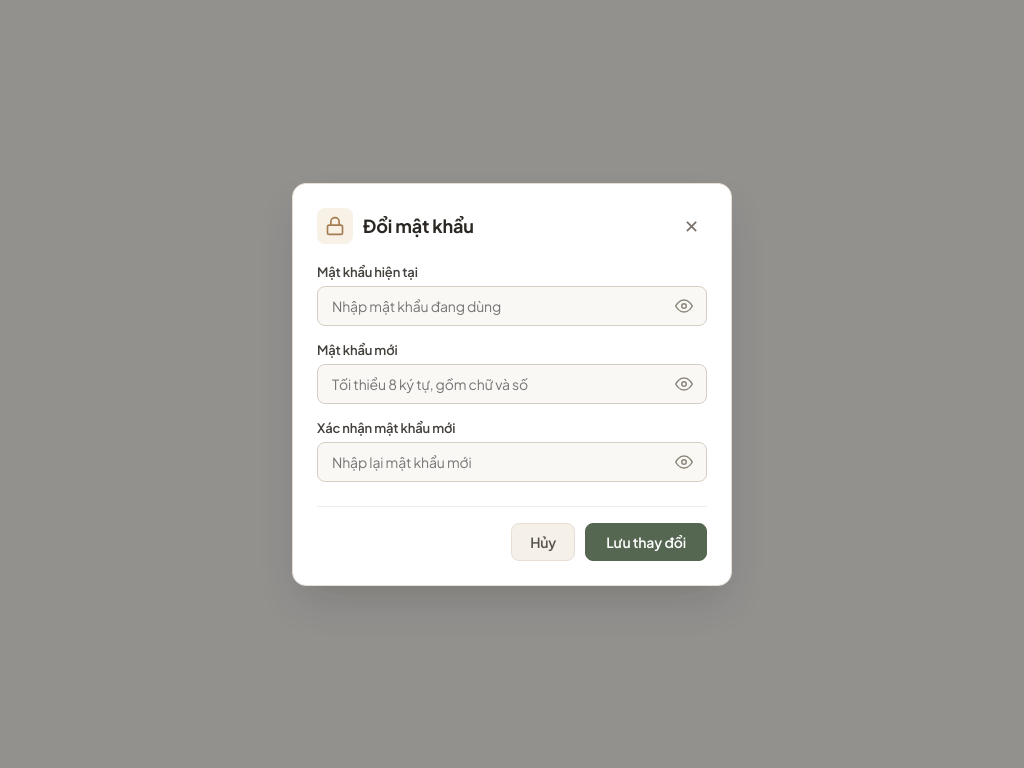
Test case: ChangePasswordModal › validates new password cannot be same as current password
The width and height of the screenshot is (1024, 768).
Type "SamePassword123" into the password field labelled "Mật khẩu hiện tại". click: (512, 306)
box: top-left (317, 286), bottom-right (707, 326)
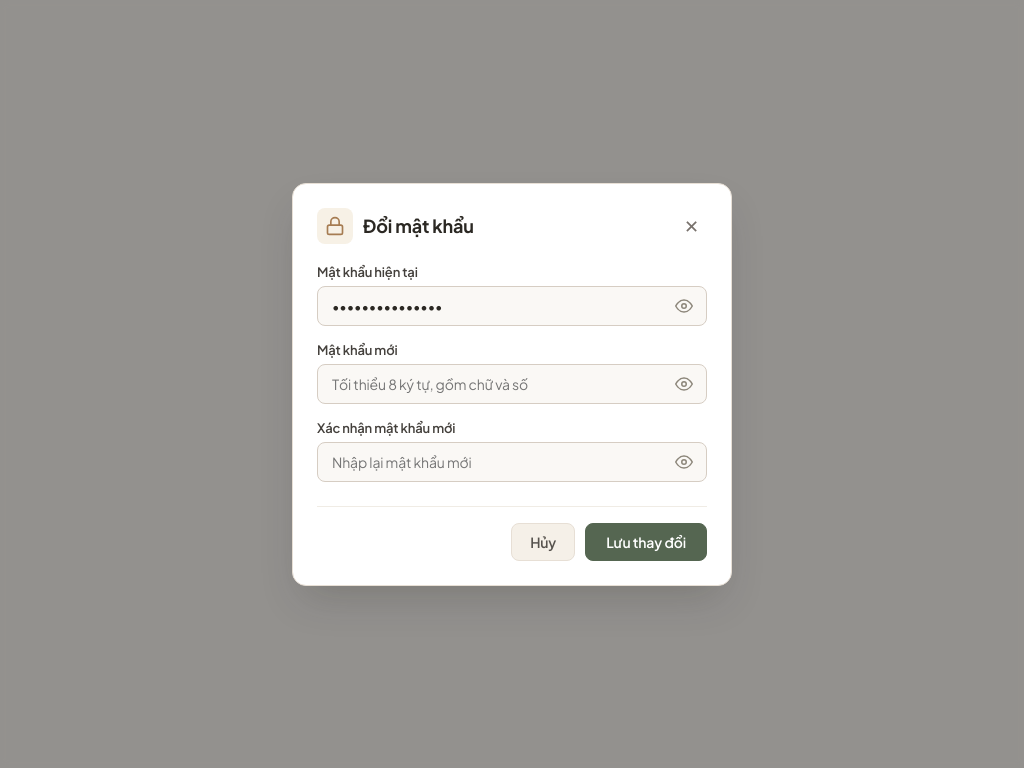
Type "SamePassword123" into the password field labelled "Mật khẩu mới". click: (512, 384)
box: top-left (317, 364), bottom-right (707, 404)
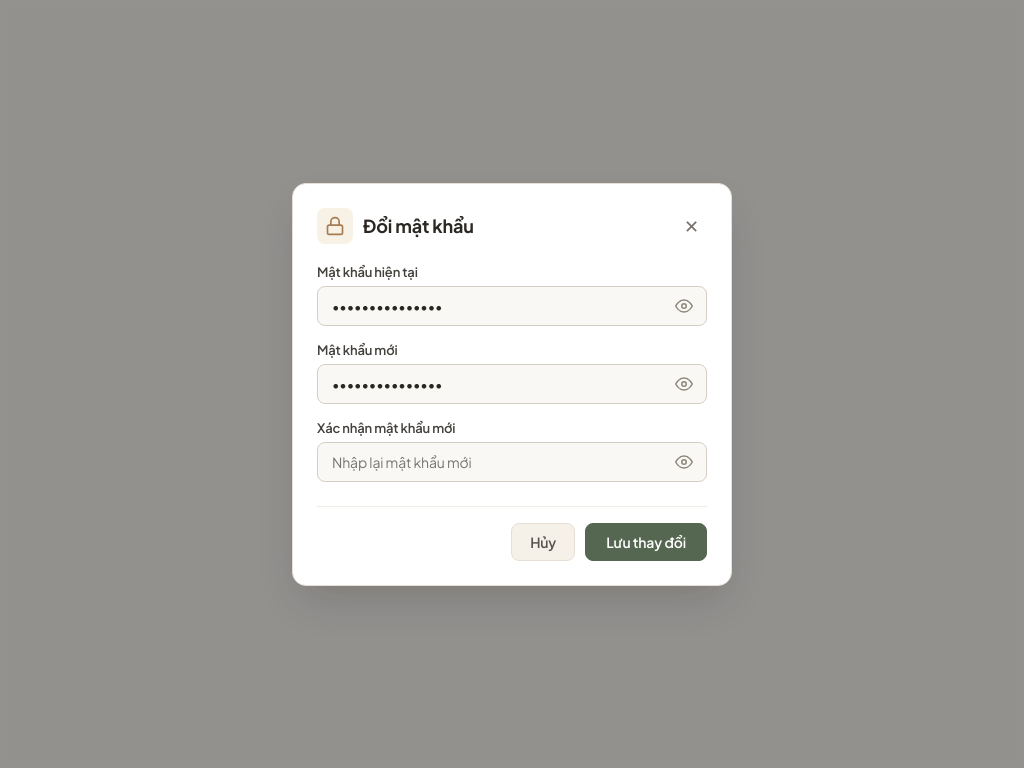
Click the button "Lưu thay đổi". click: (646, 542)
box: top-left (585, 522), bottom-right (707, 560)
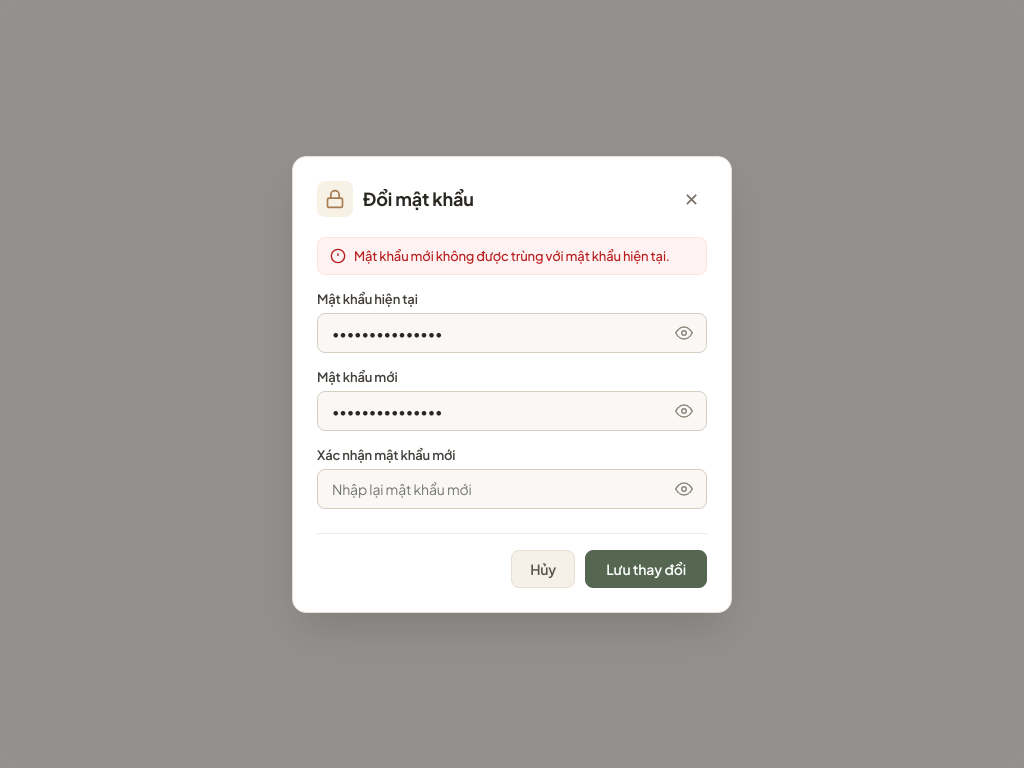
Expected: the text "Mật khẩu mới không được trùng với mật khẩu hiện tại." is shown, top-left (354, 248), bottom-right (670, 264)
